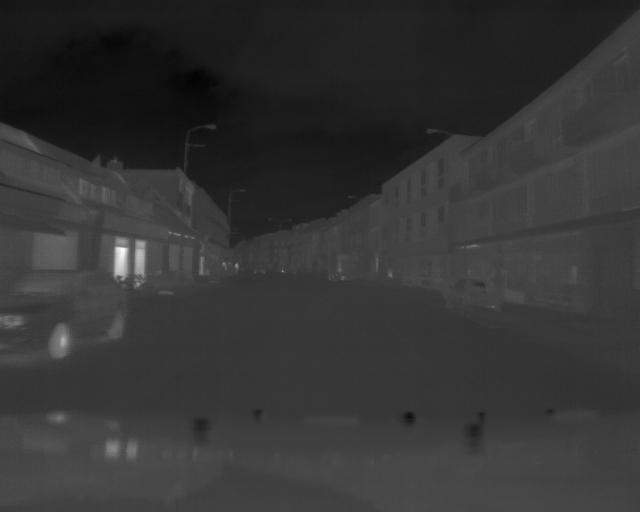car: (1, 267, 128, 362)
